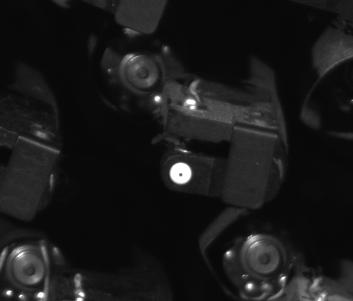fiber: (165, 160, 198, 189)
